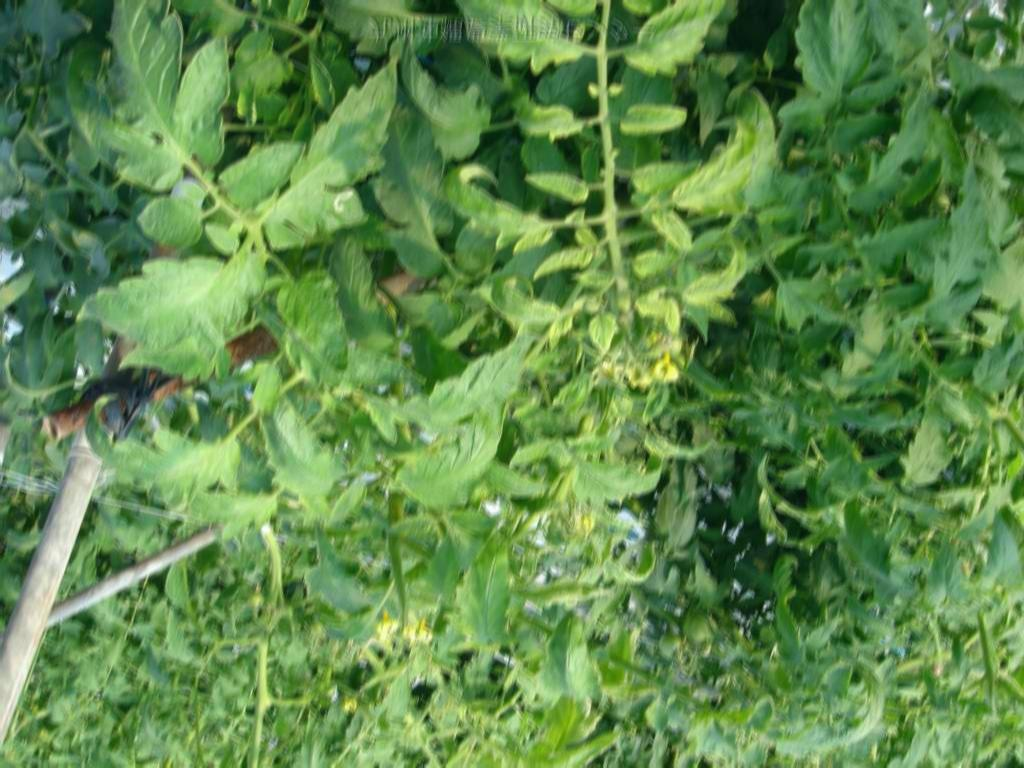Tomato leaf yellow virus: (62, 0, 226, 208), (262, 52, 409, 242), (105, 243, 279, 364), (385, 324, 555, 428), (62, 430, 253, 505), (390, 409, 525, 507), (669, 103, 780, 210), (446, 516, 527, 649), (444, 163, 548, 259), (629, 0, 739, 88), (460, 0, 580, 70), (146, 487, 300, 538), (685, 232, 758, 316), (566, 454, 668, 510), (619, 145, 706, 203), (509, 90, 592, 146), (522, 160, 597, 209), (613, 100, 696, 135), (584, 306, 632, 357)
